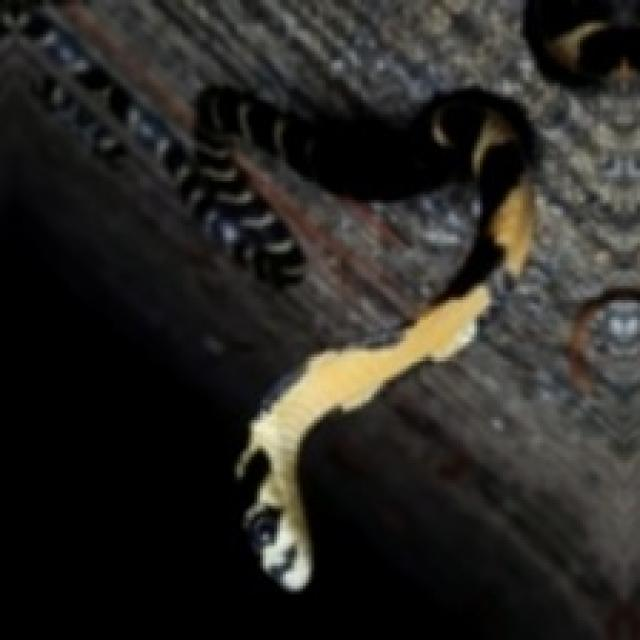king cobra: (169, 80, 543, 597)
